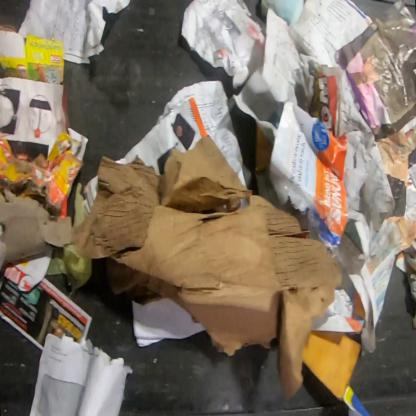cardboard: (71, 135, 343, 403), (0, 126, 90, 216), (0, 183, 73, 275), (302, 330, 362, 402), (0, 24, 66, 86), (44, 243, 93, 294), (72, 182, 87, 228)
